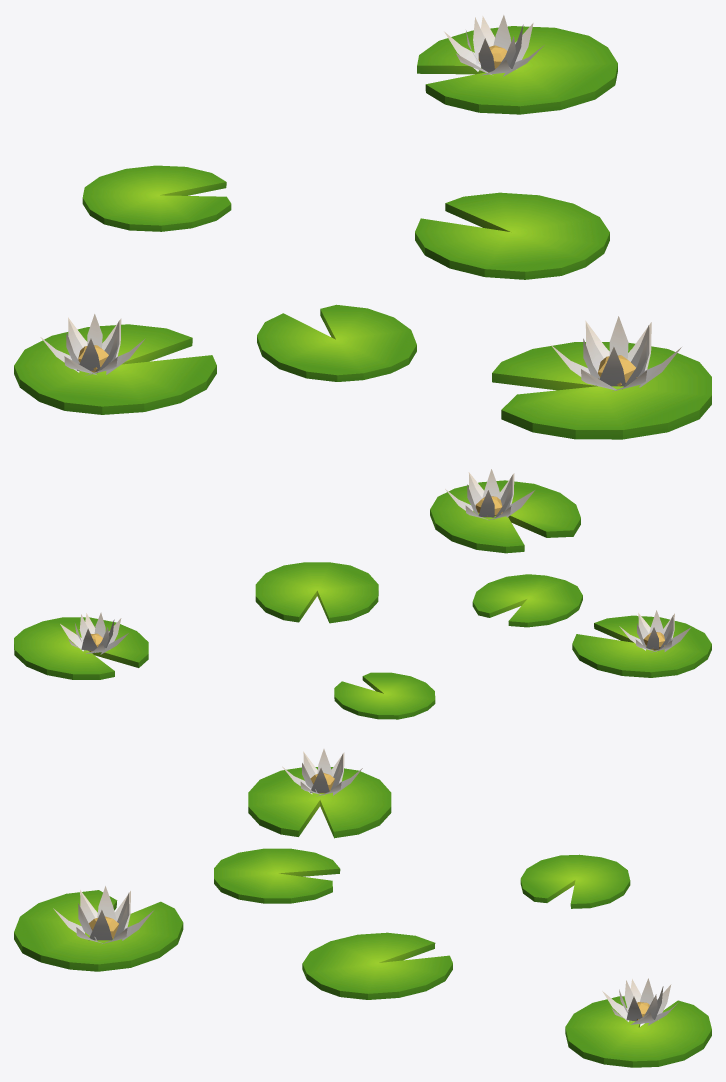
3 views of the same model, one above another, from view 1: azimuth 30°, elevation 25°; view 2: azimuth 150°, elevation 25°; view 3: azimuth 270°, elevation 25° (orthographic). The views are drawn at different scales.
Parts seen in each view (by area): view 1: WaterLilies; view 2: WaterLilies; view 3: WaterLilies.
Part boxes in pixels (x1,y1,x2,y2): WaterLilies: [14, 15, 711, 439]; WaterLilies: [14, 469, 711, 719]; WaterLilies: [14, 749, 711, 1067].
Size of the model in its own units: 29.93 by 2.1 by 30.
Materials: 1 (1 with a texture image).
